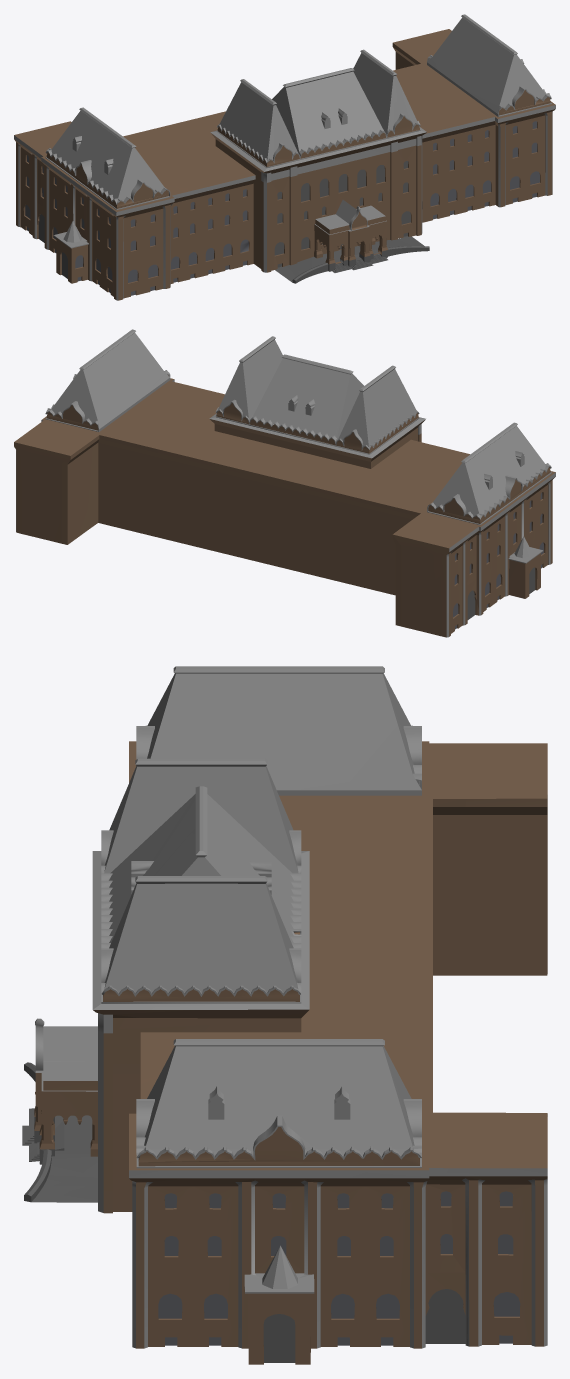
The picture shows the model from 3 angles, top to bottom: view 1: azimuth 30°, elevation 25°; view 2: azimuth 150°, elevation 25°; view 3: azimuth 270°, elevation 25°; orthographic projection. The views are drawn at different scales.
Parts seen in each view (by area): view 1: 9_lvl2, 9_lvl1, 9_lvl5, 9_lvl4, 9_lvl3, 9_lvl6; view 2: 9_lvl2, 9_lvl5, 9_lvl4, 9_lvl3, 9_lvl1; view 3: 9_lvl2, 9_lvl5, 9_lvl4, 9_lvl3, 9_lvl1, 9_lvl6.
Boxes of the visible parts, x1,y1,x2,y2 form: 9_lvl2: (14, 29, 555, 300); 9_lvl1: (210, 126, 426, 272); 9_lvl5: (216, 49, 420, 167); 9_lvl4: (427, 14, 551, 116); 9_lvl3: (45, 107, 170, 209); 9_lvl6: (275, 200, 429, 283); 9_lvl2: (14, 378, 555, 637); 9_lvl5: (215, 336, 419, 454); 9_lvl4: (45, 329, 170, 431); 9_lvl3: (427, 422, 551, 525); 9_lvl1: (209, 413, 425, 468); 9_lvl2: (129, 741, 547, 1364); 9_lvl5: (101, 758, 301, 1003); 9_lvl4: (136, 1039, 421, 1168); 9_lvl3: (136, 666, 421, 795); 9_lvl1: (92, 851, 309, 1213); 9_lvl6: (22, 1018, 97, 1202).
Bounding box in the file's own units: 1550 × 499 × 747.
